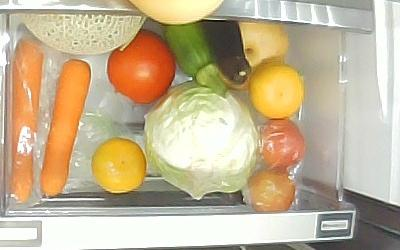cabbage: (144, 81, 259, 201)
carrot: (39, 59, 91, 197)
carrot_vinyl: (9, 37, 45, 202)
eggplant: (201, 21, 251, 84)
melon: (19, 14, 148, 55)
pear: (239, 22, 290, 66)
prune_vinyl: (259, 118, 305, 170), (249, 169, 296, 212)
tangerine: (92, 138, 147, 194), (249, 64, 304, 119)
tomato: (106, 29, 176, 105)
zucchini: (163, 22, 229, 99)
